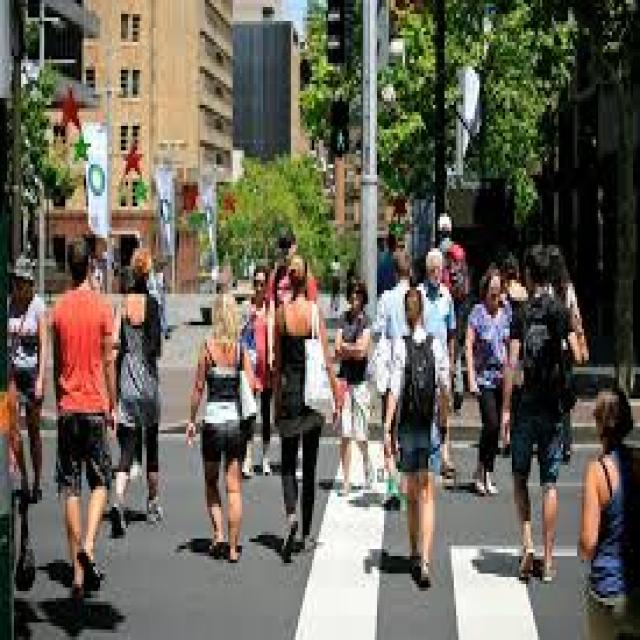Pedestrians: (505, 248, 582, 584), (263, 255, 340, 567), (184, 290, 261, 567), (384, 290, 454, 591), (52, 238, 110, 598), (577, 377, 640, 640), (116, 248, 166, 539), (4, 252, 46, 510)
